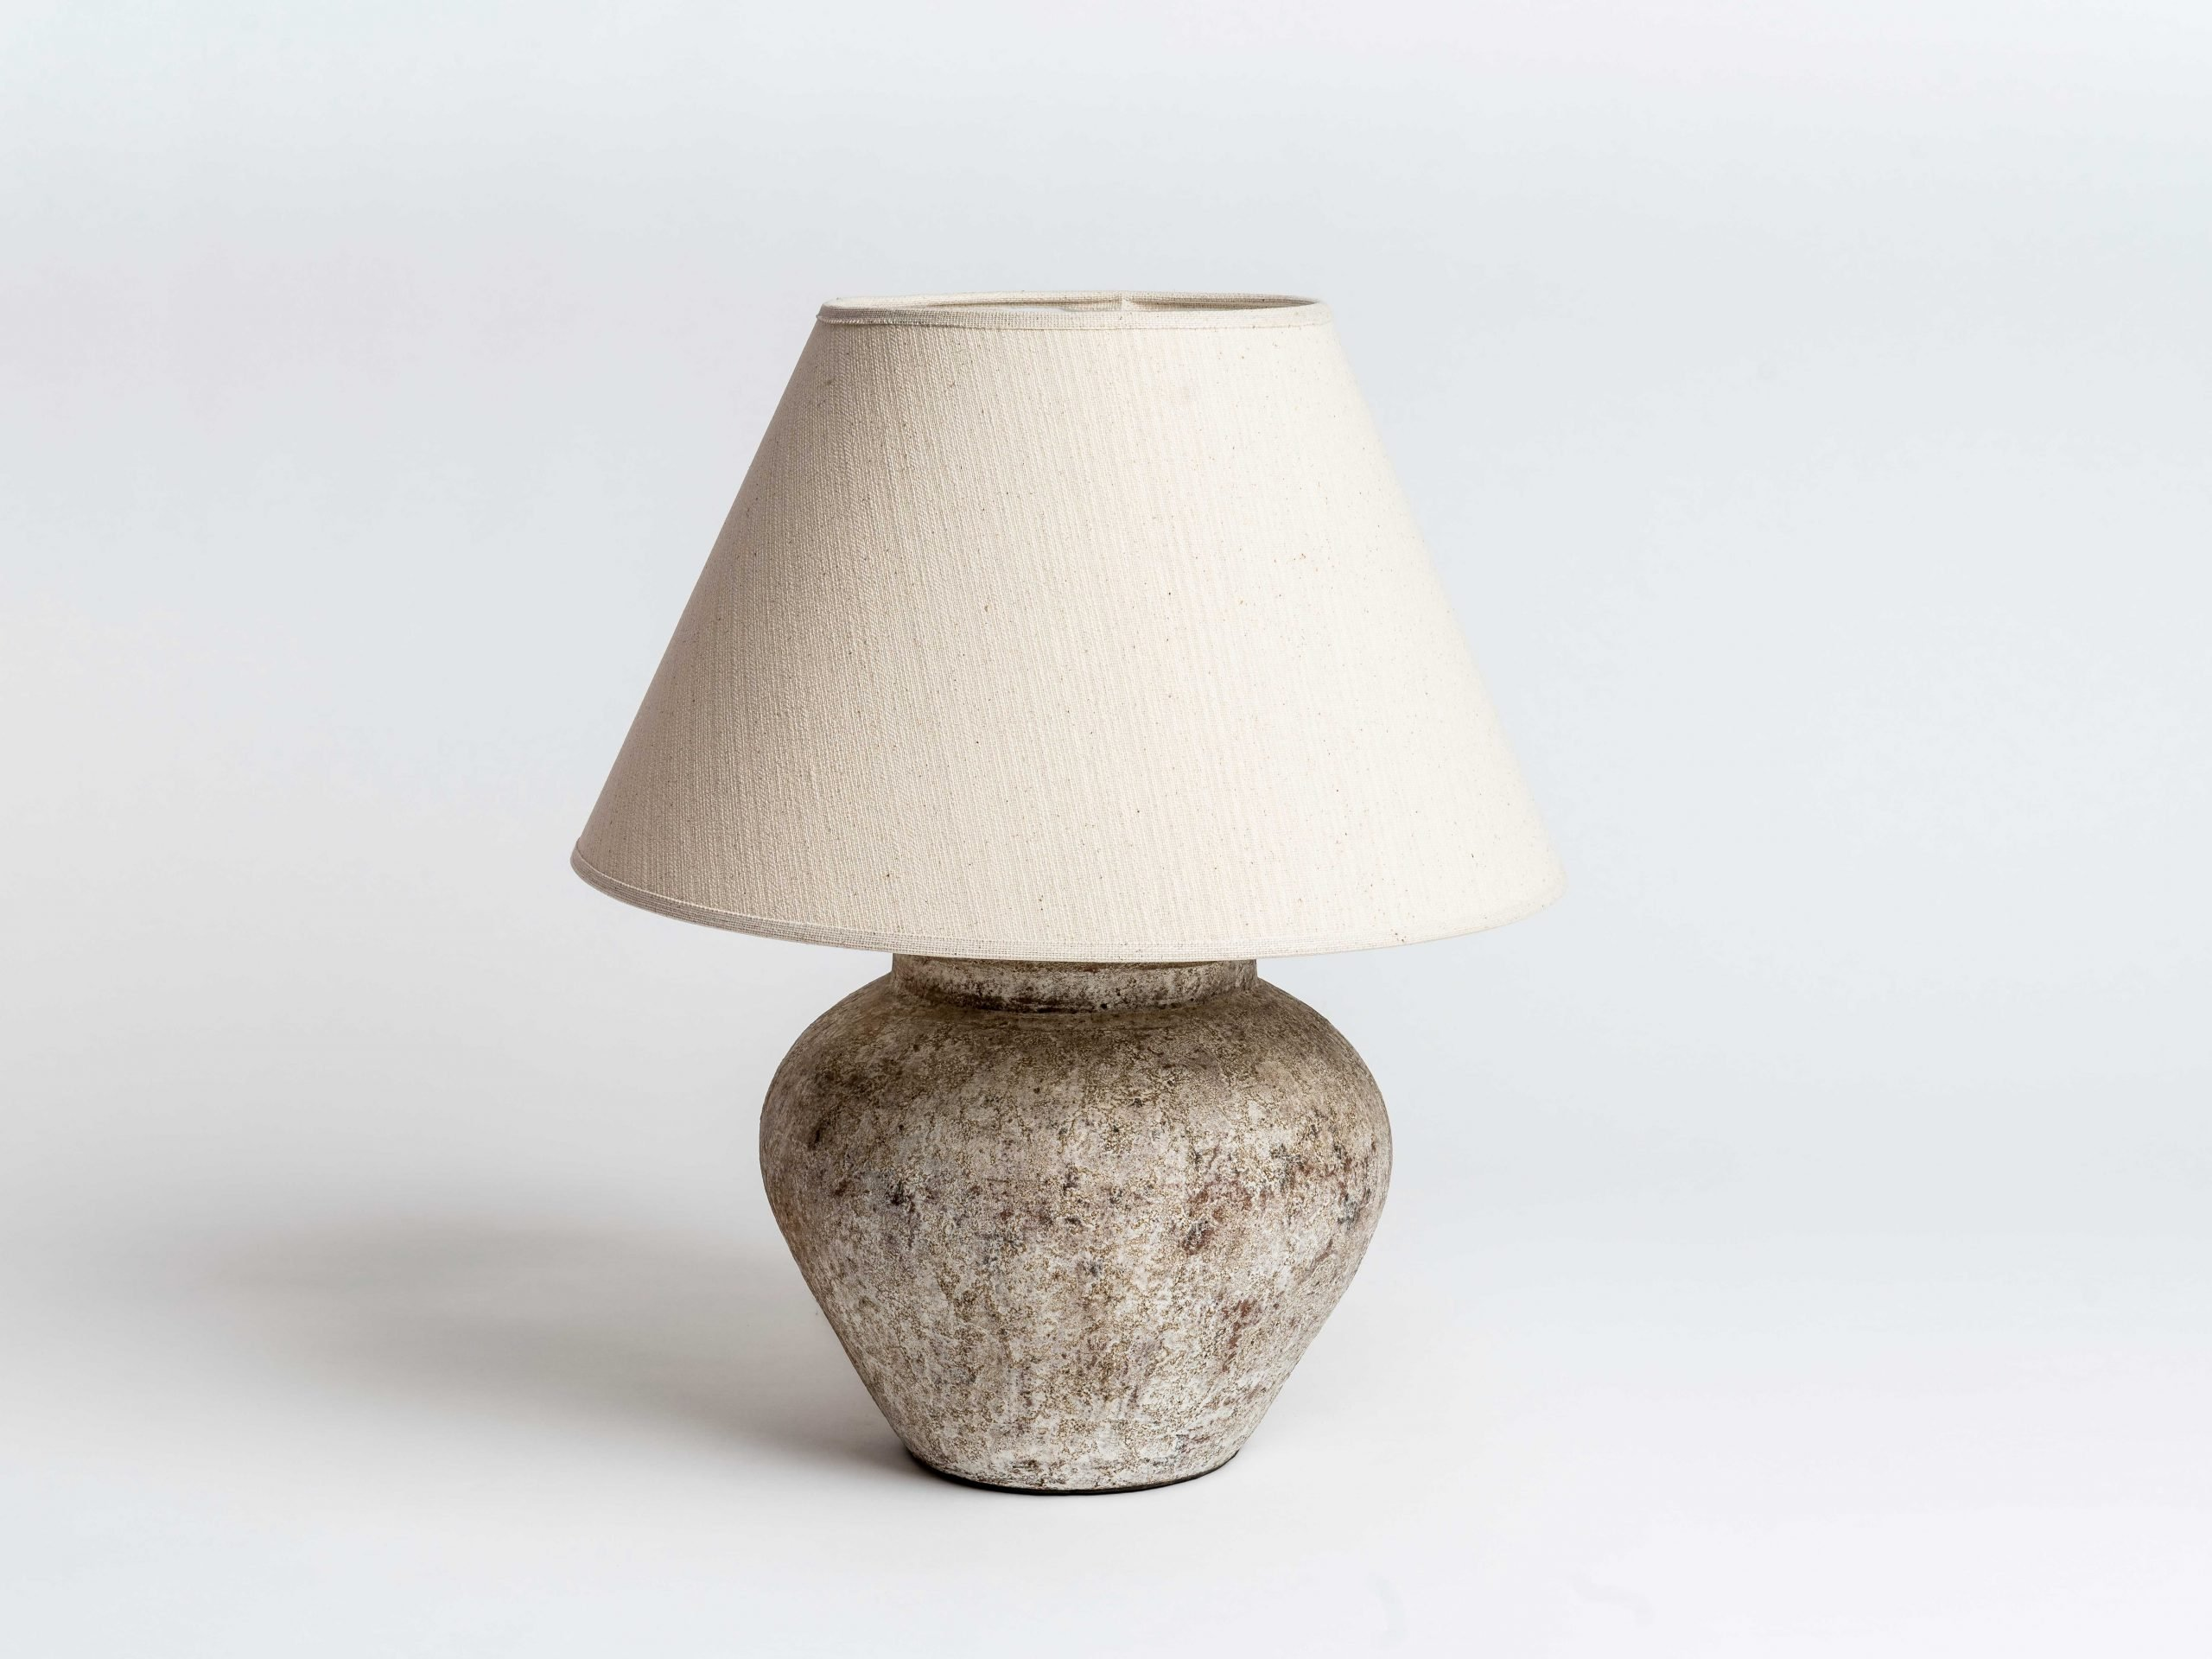lampu: (583, 286, 1561, 1497)
